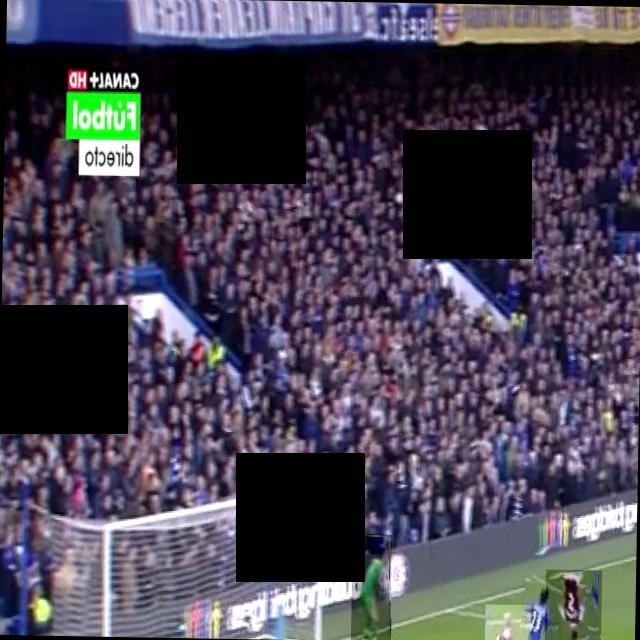goalkeeper: (349, 532, 390, 640)
soccer-player: (543, 568, 600, 640), (519, 573, 560, 640), (483, 603, 530, 640)
